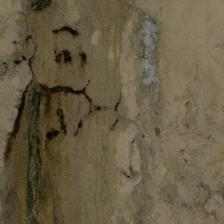Crack: (0, 41, 41, 87), (22, 69, 52, 108), (69, 53, 91, 87), (111, 48, 133, 68)
